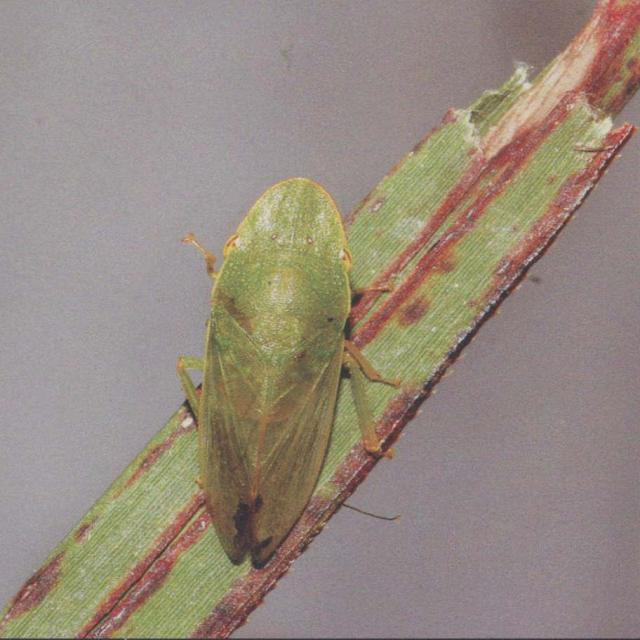Yechan: (173, 173, 388, 567)
